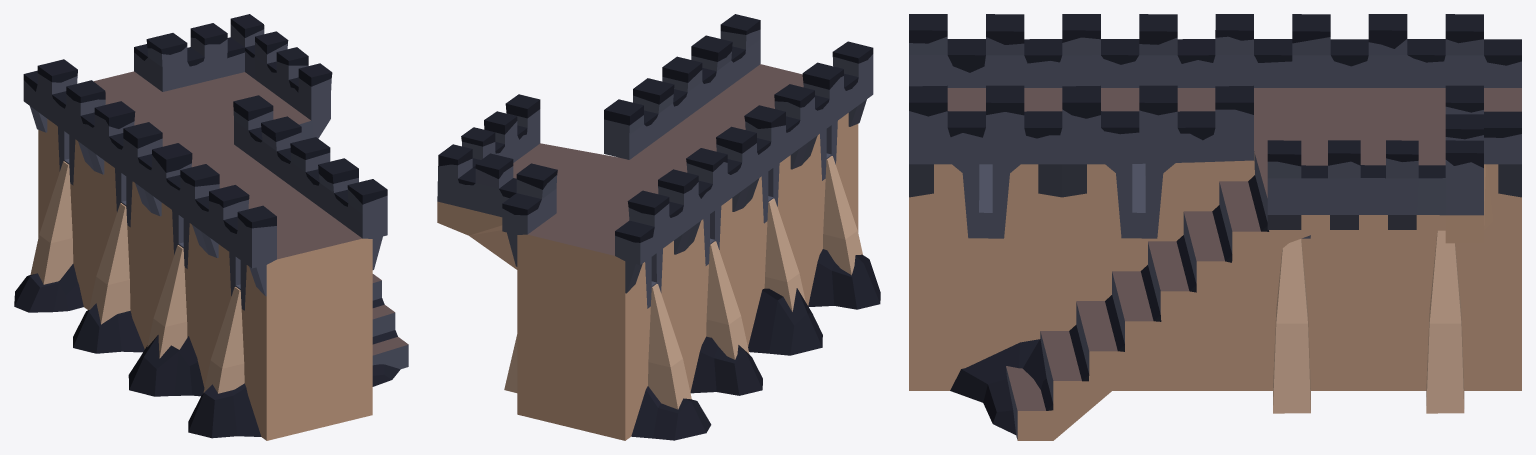
The model's file is Wall4.fbx.
The picture shows the model from 3 angles, left to right: view 1: azimuth 30°, elevation 25°; view 2: azimuth 150°, elevation 25°; view 3: azimuth 270°, elevation 25°; orthographic projection. The views are drawn at different scales.
Visible parts, largest first — view 1: Wall4, Wall1.003; view 2: Wall4, Wall1.003; view 3: Wall4, Wall1.003.
Boxes of the visible parts, x1=… form: Wall4: x1=23, y1=14, x2=408, y2=440; Wall1.003: x1=14, y1=264, x2=400, y2=438; Wall4: x1=437, y1=14, x2=873, y2=440; Wall1.003: x1=631, y1=249, x2=880, y2=440; Wall4: x1=909, y1=14, x2=1521, y2=440; Wall1.003: x1=950, y1=339, x2=1046, y2=434.
Size of what is drawn, in the model's own units: 508 by 429 by 800.
